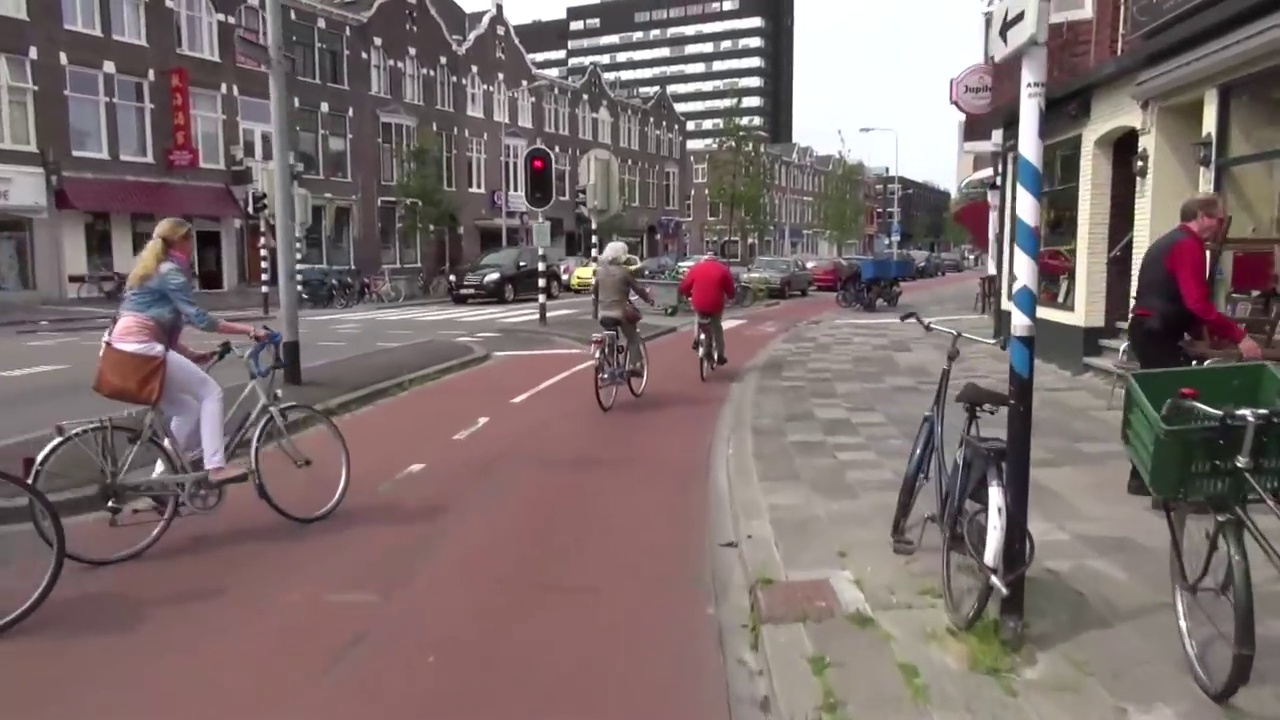cyclist_back: (585, 239, 657, 410), (684, 248, 736, 391)
cyclist_side: (25, 213, 364, 570)
